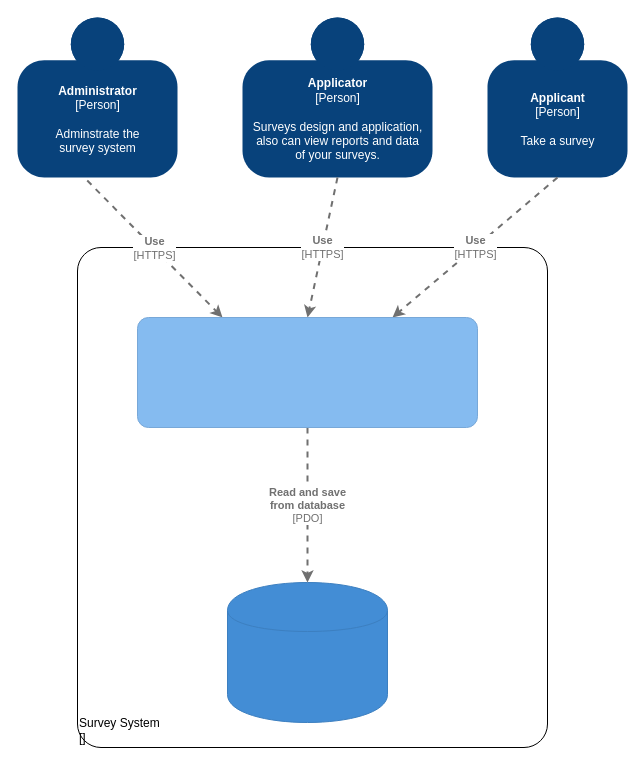
Some shapes in this 644 by 765 pixel diagram are drawn without their labels. The shapes that lost their labels are listed below. From the top down, each one's centre as x and y in pixels, then its label:
At pixel 307 372: "Web Application [Container: PHP Core] Server-Side application".
At pixel 307 652: "Database [Container: MySQL]".
